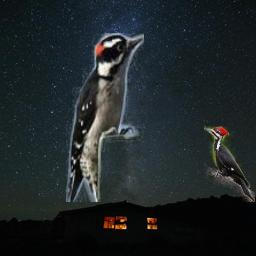Woodpecker: (66, 33, 144, 202), (204, 126, 255, 202)
